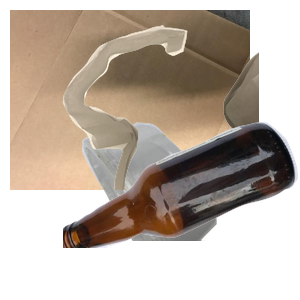cardboard: (10, 10, 250, 190)
glass: (63, 120, 300, 300)
plastic: (80, 120, 289, 300)
trash: (60, 23, 300, 203)
